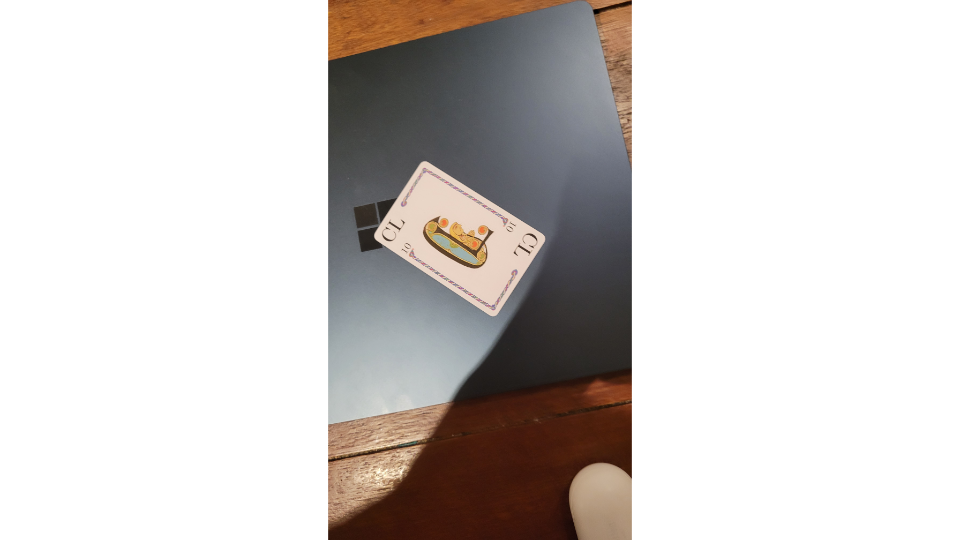CL: (372, 156, 547, 318)
